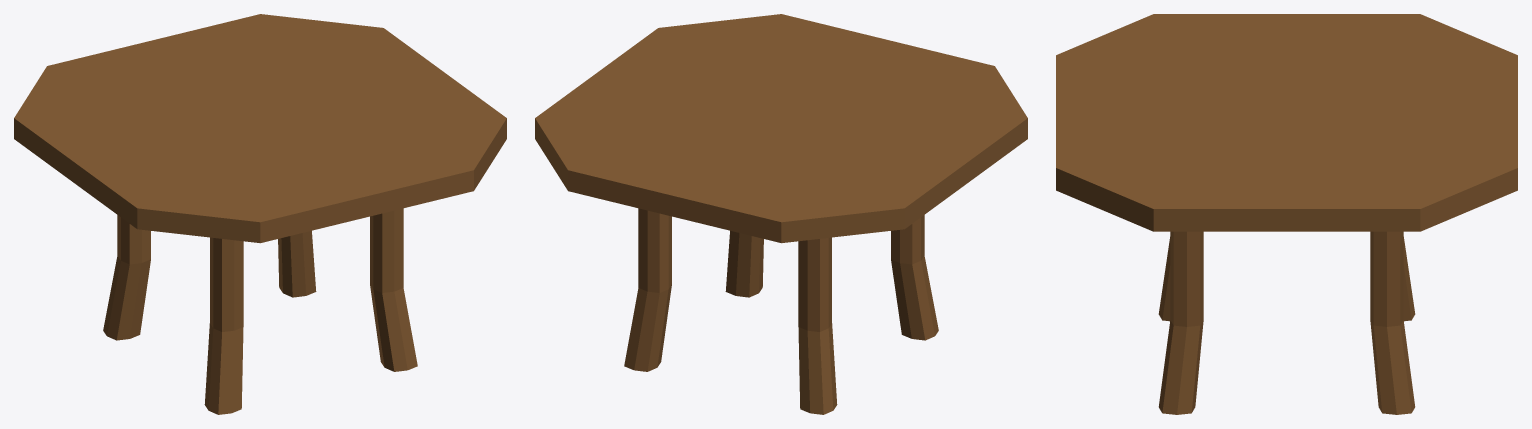
File: Table.fbx
The picture shows the model from 3 angles, left to right: view 1: azimuth 30°, elevation 25°; view 2: azimuth 150°, elevation 25°; view 3: azimuth 270°, elevation 25°; orthographic projection. The views are drawn at different scales.
Visible parts, largest first — view 1: Circle; view 2: Circle; view 3: Circle.
Boxes of the visible parts, x1,y1,x2,y2 form: Circle: (14,14,506,414); Circle: (535,14,1027,414); Circle: (1056,14,1517,414).
Bounding box in the file's own units: 1386 × 825 × 1386.
